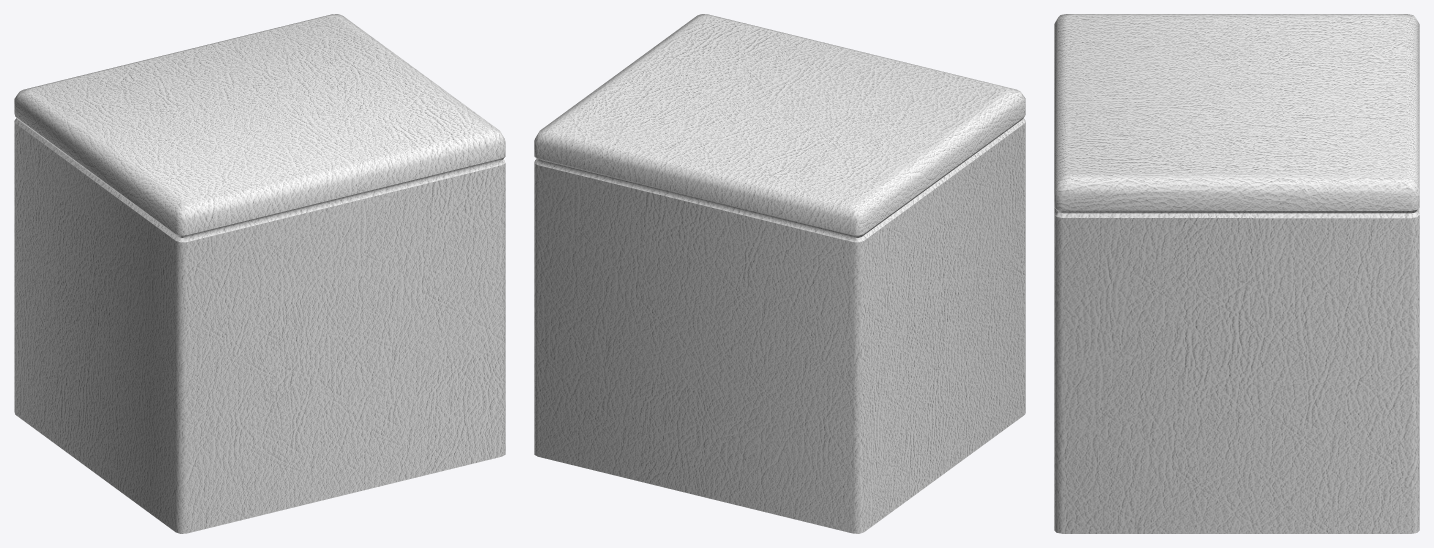
The model's file is leather_garniture_b.fbx.
The picture shows the model from 3 angles, left to right: view 1: azimuth 30°, elevation 25°; view 2: azimuth 150°, elevation 25°; view 3: azimuth 270°, elevation 25°; orthographic projection. The views are drawn at different scales.
Visible parts, largest first — view 1: leather_garniture_b; view 2: leather_garniture_b; view 3: leather_garniture_b.
Boxes of the visible parts, x1=… form: leather_garniture_b: x1=14, y1=14, x2=505, y2=533; leather_garniture_b: x1=534, y1=14, x2=1025, y2=533; leather_garniture_b: x1=1054, y1=14, x2=1419, y2=533.
Bounding box in the file's own units: 1.06 × 0.994 × 0.9377.
